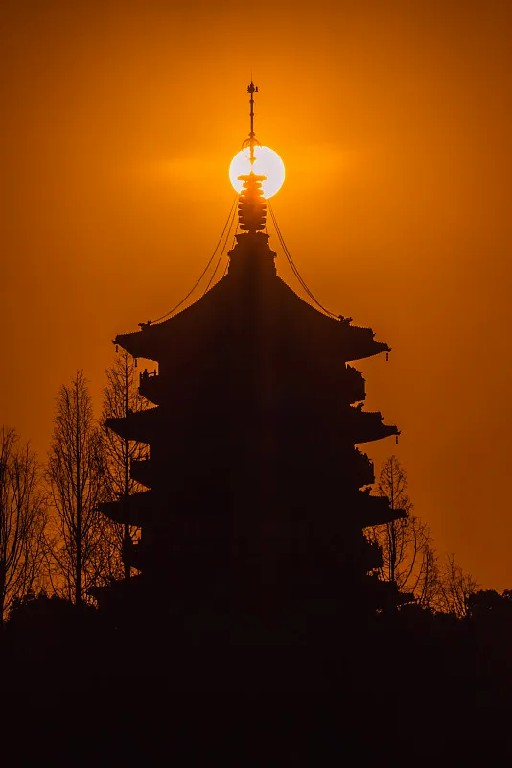Leifeng: (113, 73, 413, 619)
